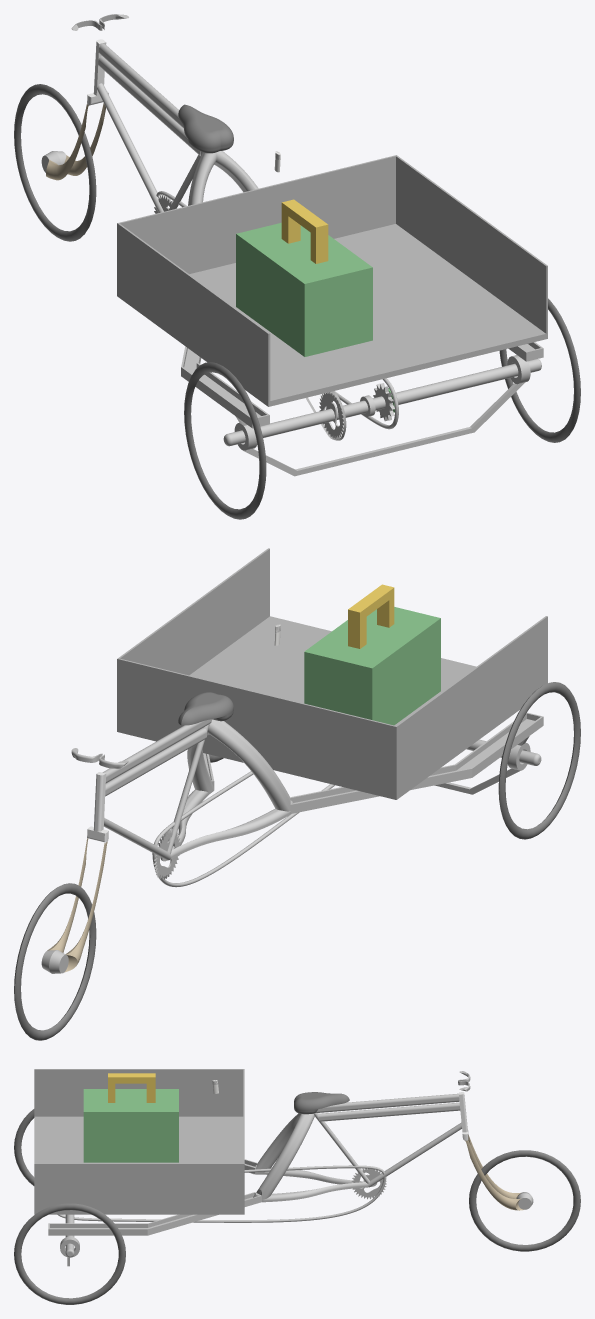
Rendered from metal-trike.glb.
The picture shows the model from 3 angles, top to bottom: view 1: azimuth 30°, elevation 25°; view 2: azimuth 150°, elevation 25°; view 3: azimuth 270°, elevation 25°; orthographic projection. The views are drawn at different scales.
Visible parts, largest first — view 1: g Body47, g Body1:1, g Body37, g Body39, g Body1, g Body46, g Body40, g Body2:1, g Body24, g Body21, g Body80, g Body20 (+5 smaller); view 2: g Body47, g Body1:1, g Body39, g Body1, g Body80, g Body21, g Body31, g Body2:1, g Body74, g Body34, g Body48, g Body24 (+6 smaller); view 3: g Body47, g Body1:1, g Body40, g Body1, g Body80, g Body26, g Body21, g Body48, g Body31, g Body20, g Body24, g Body2:1 (+7 smaller).
Boxes of the visible parts, bbox=[...] form: g Body47: bbox=[117, 155, 547, 406]; g Body1:1: bbox=[236, 222, 372, 356]; g Body37: bbox=[223, 359, 541, 446]; g Body39: bbox=[184, 362, 266, 519]; g Body1: bbox=[14, 84, 96, 241]; g Body46: bbox=[243, 382, 524, 476]; g Body40: bbox=[499, 298, 580, 442]; g Body2:1: bbox=[281, 199, 328, 263]; g Body24: bbox=[178, 104, 233, 153]; g Body21: bbox=[98, 56, 202, 210]; g Body80: bbox=[188, 151, 258, 205]; g Body20: bbox=[99, 43, 183, 128]; g Body47: bbox=[117, 548, 547, 799]; g Body1:1: bbox=[304, 607, 440, 725]; g Body39: bbox=[498, 682, 580, 839]; g Body1: bbox=[14, 883, 96, 1040]; g Body80: bbox=[187, 719, 290, 808]; g Body21: bbox=[105, 723, 209, 854]; g Body31: bbox=[170, 789, 290, 859]; g Body2:1: bbox=[348, 584, 394, 648]; g Body74: bbox=[417, 712, 543, 785]; g Body34: bbox=[291, 719, 543, 813]; g Body48: bbox=[152, 771, 334, 887]; g Body24: bbox=[178, 692, 233, 725]; g Body47: bbox=[34, 1069, 244, 1214]; g Body1:1: bbox=[83, 1089, 178, 1162]; g Body40: bbox=[14, 1203, 125, 1304]; g Body1: bbox=[469, 1150, 580, 1251]; g Body80: bbox=[256, 1113, 314, 1195]; g Body26: bbox=[48, 1214, 188, 1235]; g Body21: bbox=[313, 1102, 460, 1183]; g Body48: bbox=[57, 1165, 386, 1222]; g Body31: bbox=[262, 1167, 368, 1202]; g Body20: bbox=[315, 1093, 459, 1112]; g Body24: bbox=[294, 1092, 349, 1114]; g Body2:1: bbox=[108, 1073, 155, 1102].
Size of the model in its own units: 18.31 by 13.51 by 40.46.
